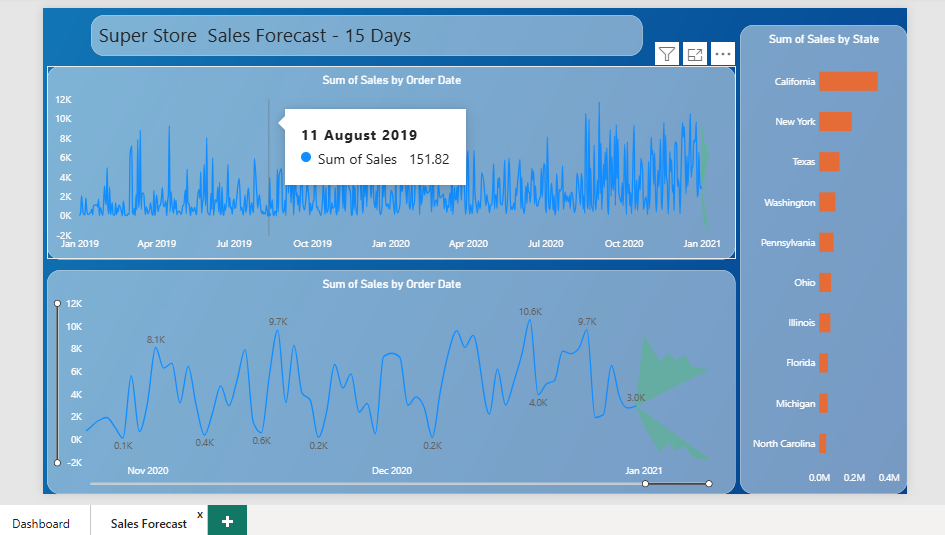

This screenshot's page, from the dashboard's own definition file:
{"tool":"powerbi","page":{"name":"Sales Forecast","canvas":[1920,1080],"ordinal":1},"visuals":[{"type":"lineChart","fields":{"Category":["SuperStore_Sales_Dataset.Order Date"],"Y":["Sum(SuperStore_Sales_Dataset.Sales)"]},"box":[9.3,581.4,1530.2,497.7],"z":0},{"type":"lineChart","fields":{"Category":["SuperStore_Sales_Dataset.Order Date"],"Y":["Sum(SuperStore_Sales_Dataset.Sales)"]},"box":[9.3,127.9,1530.2,430.2],"z":1000},{"type":"clusteredBarChart","fields":{"Category":["SuperStore_Sales_Dataset.State"],"Y":["Sum(SuperStore_Sales_Dataset.Sales)"]},"box":[1548.8,37.2,372.1,1041.9],"z":1001},{"type":"textbox","box":[107,16.3,1225.6,90.7],"z":1002}]}

Visuals, with their boxes on the page's 1920x1080 design canvas (x1, y1, x2, y2). These are canvas units, not pixel positions in the 945x535 screenshot, which may show the page scaled, cropped or inside an application window:
lineChart - SuperStore_Sales_Dataset.Order Date x Sum(SuperStore_Sales_Dataset.Sales): left=9, top=581, right=1540, bottom=1079
lineChart - SuperStore_Sales_Dataset.Order Date x Sum(SuperStore_Sales_Dataset.Sales): left=9, top=128, right=1540, bottom=558
clusteredBarChart - SuperStore_Sales_Dataset.State x Sum(SuperStore_Sales_Dataset.Sales): left=1549, top=37, right=1921, bottom=1079
textbox: left=107, top=16, right=1333, bottom=107
